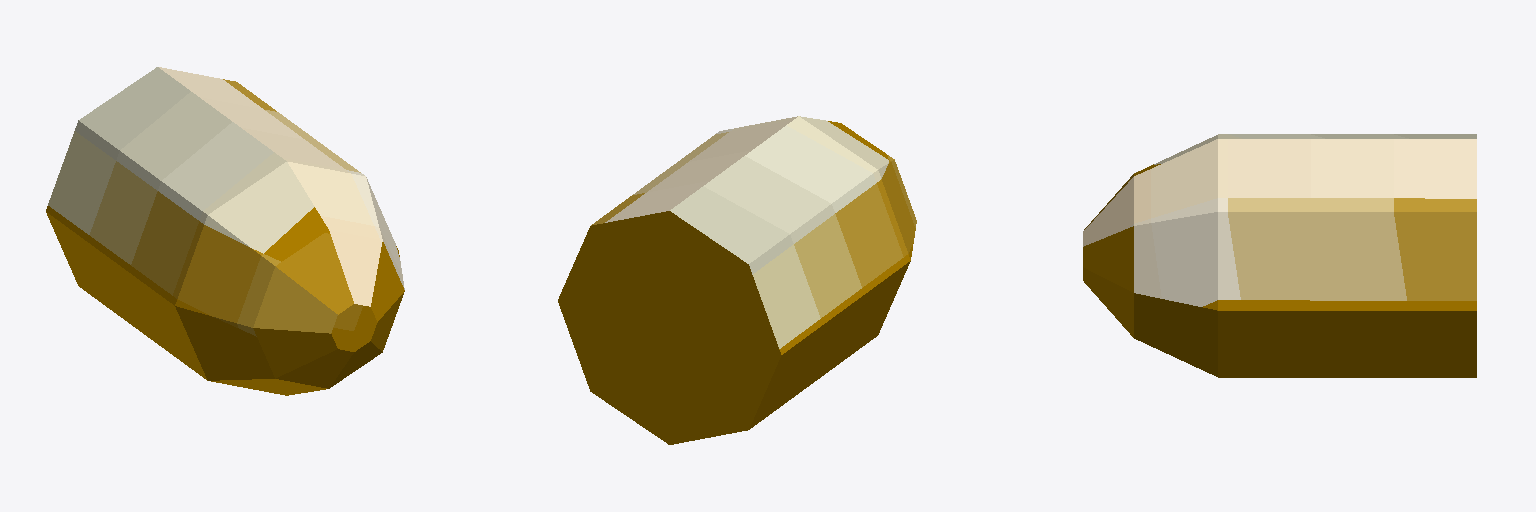
3 renders of one model, left to right at view 1: azimuth 30°, elevation 25°; view 2: azimuth 150°, elevation 25°; view 3: azimuth 270°, elevation 25°, orthographic.
Parts seen in each view (by area): view 1: Cylinder; view 2: Cylinder; view 3: Cylinder.
Boxes of the visible parts, box(x1,y1,x2,y2) form: Cylinder: box(46, 67, 404, 395); Cylinder: box(558, 116, 916, 444); Cylinder: box(1083, 134, 1476, 377).
Bounding box in the file's own units: 0.3767 × 0.3767 × 0.5732.
Materials: 1 (1 with a texture image).